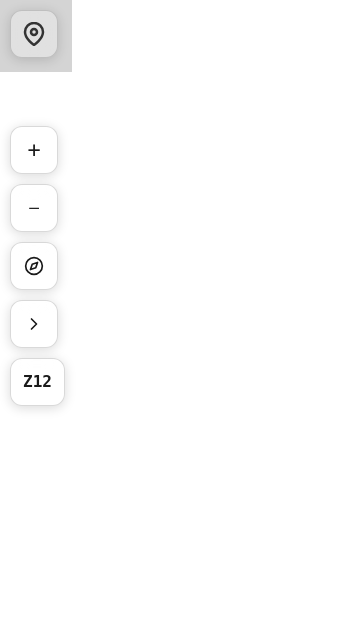
Test case: GEOINT modules flow › module selection › opens the modules menu from the pin button
Expected: the text "Terrain Analysis" is not shown
What coordinates should you click on to do the following:
click the element titled "Geointelligence Modules"
I would click on:
 (34, 34)
Its box is top-left (10, 10), bottom-right (58, 58).
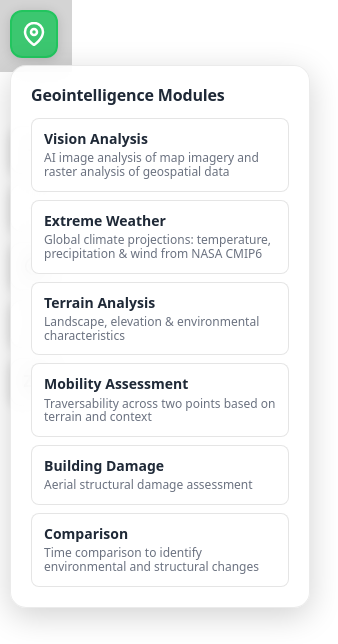
Expected: the text "Terrain Analysis" is shown, top-left (44, 293), bottom-right (155, 312)
